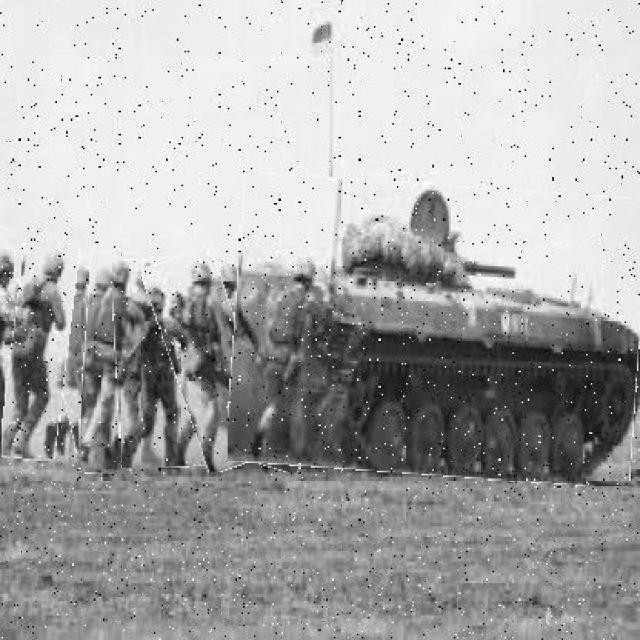Person: (156, 251, 264, 474), (247, 258, 344, 473), (114, 260, 203, 469), (46, 258, 124, 455), (6, 241, 73, 461), (81, 254, 143, 477)
Tank: (231, 180, 640, 486)
